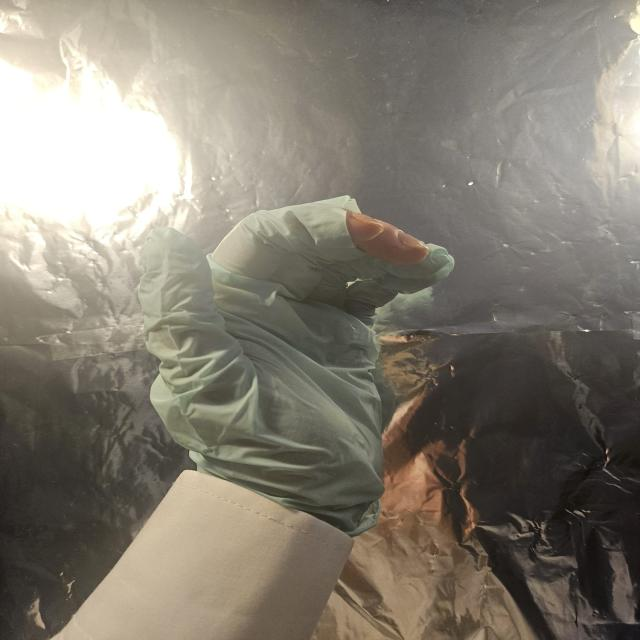gloves_damaged: (136, 194, 458, 536)
